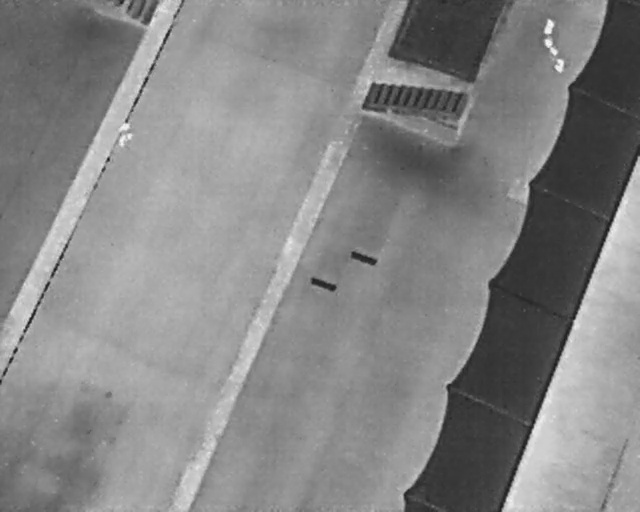Person: (118, 120, 134, 148)
